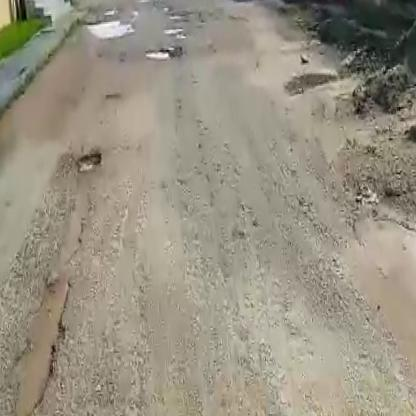pothole: (86, 19, 135, 42), (75, 146, 110, 176), (144, 44, 178, 60)
